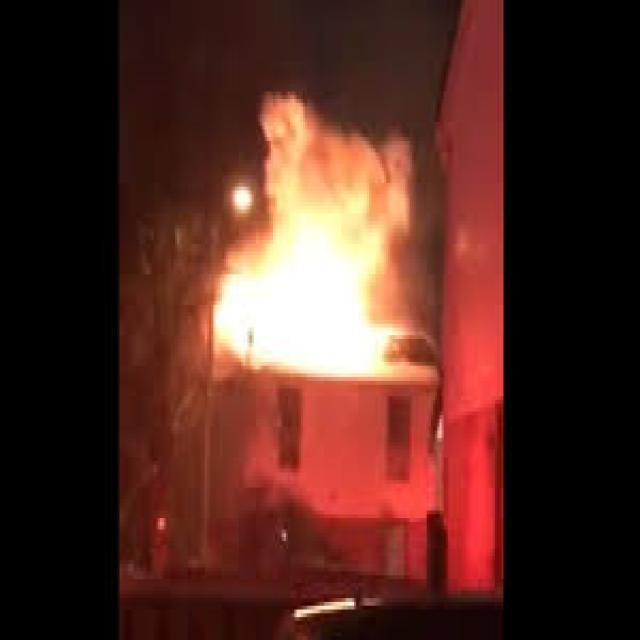Fire: (212, 86, 425, 374)
